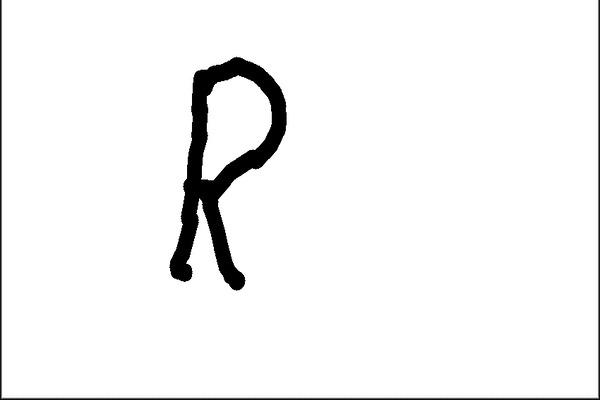R: (165, 50, 298, 289)
